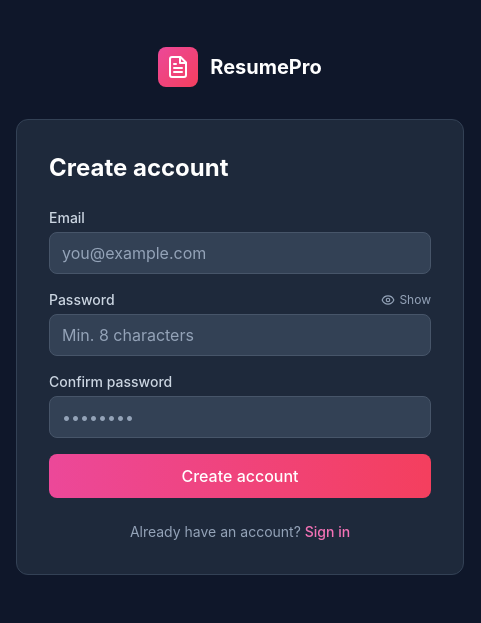
Register page › shows error when passwords do not match
The image size is (481, 623).
Type "a@b.com" into the field with placeholder "you@example.com" at (240, 253), box left=49, top=232, right=431, bottom=274
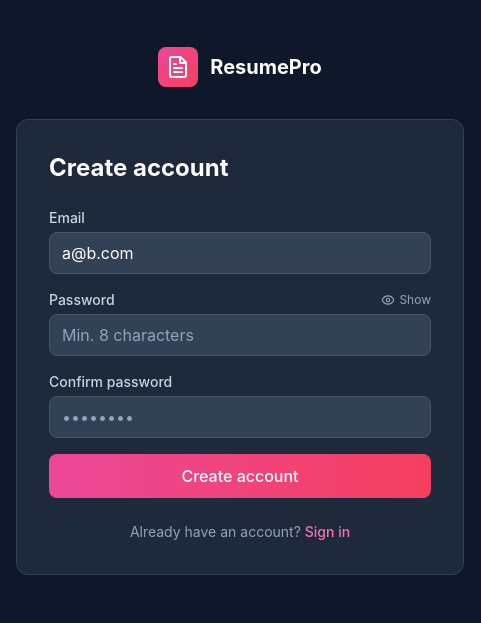
Type "password123" into the password field with placeholder "Min. 8 characters" at (240, 335), box left=49, top=314, right=431, bottom=356
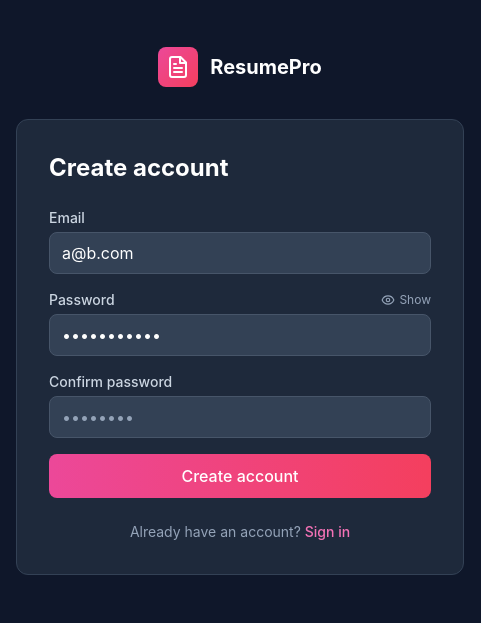
Type "different456" into the password field with placeholder "••••••••" at (240, 417), box left=49, top=396, right=431, bottom=438
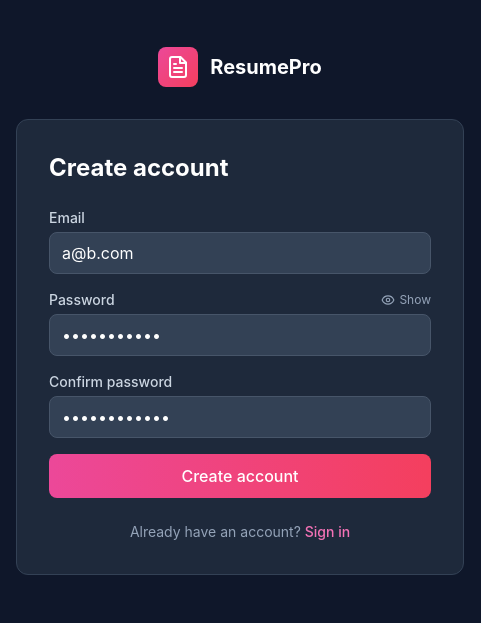
Click the button "Create account" at (240, 476), box left=49, top=454, right=431, bottom=498
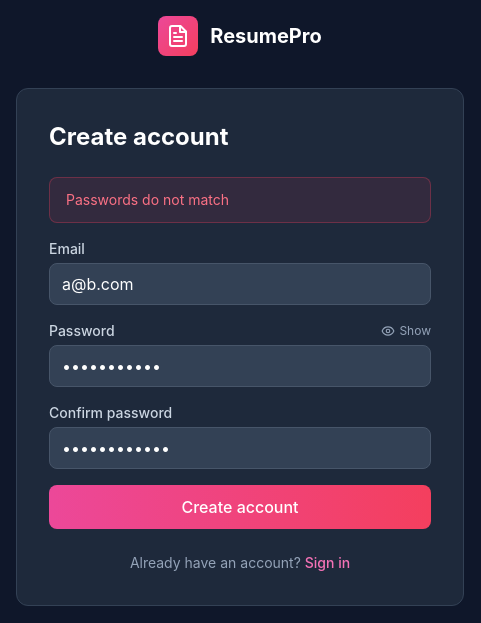
Check: the text "Passwords do not match" is shown, box left=49, top=177, right=431, bottom=223
